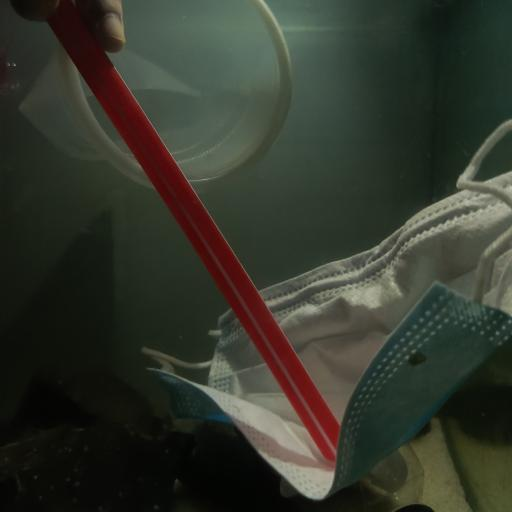mask: (148, 171, 512, 501)
plastic_cup: (36, 1, 290, 193)
plastic_straw: (40, 0, 344, 462)
